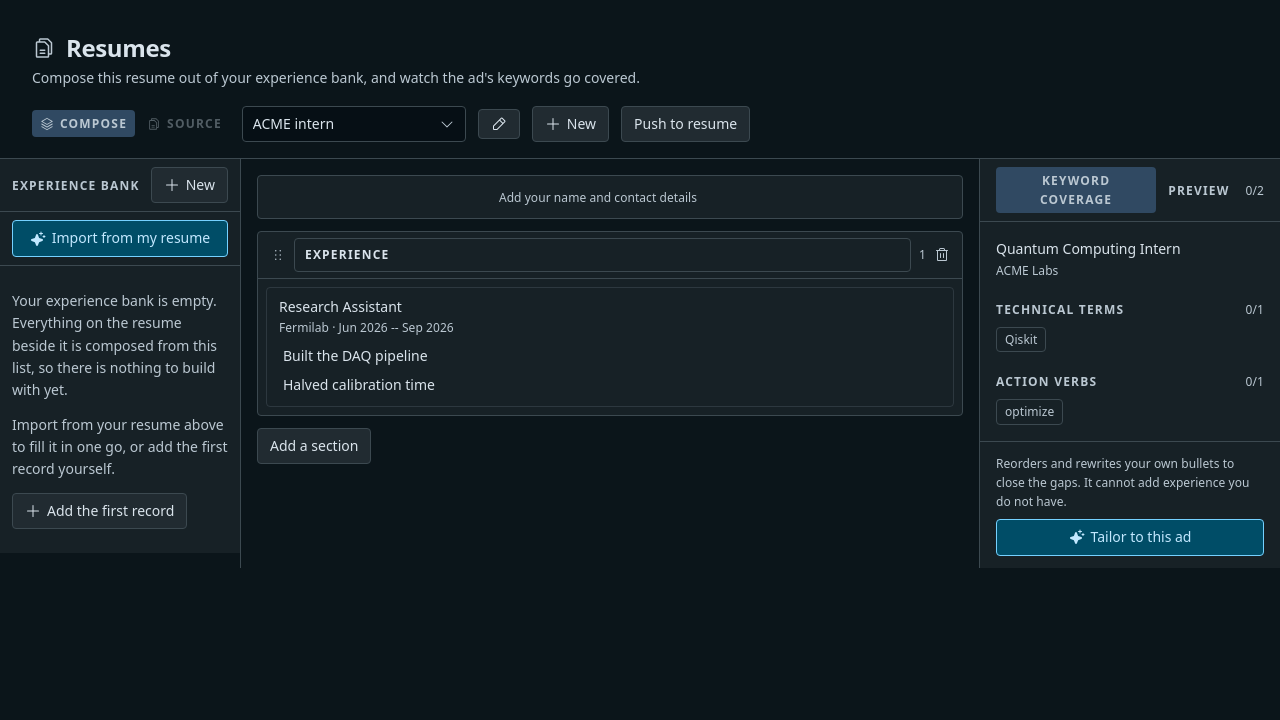
it: Builder / the cold-start import › writes nothing until the preview is confirmed
Expected: the field named "rename the experience section" is shown, [294,238,911,272]
Click the button "Import from my resume": x=120, y=239 [12,220,228,257]
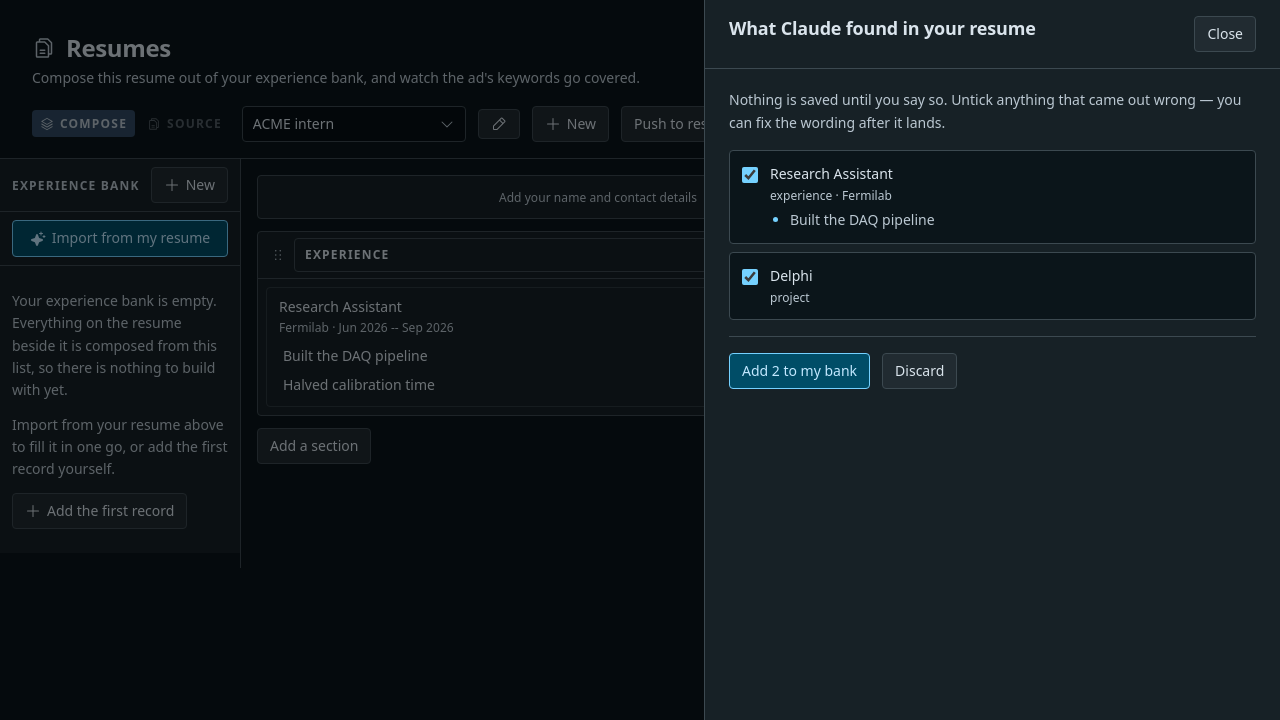
Now the text "Nothing is saved until you say so" is shown, box [729,90,1242,132]
Now the list item "Built the DAQ pipeline" is shown, box [790,210,935,229]
